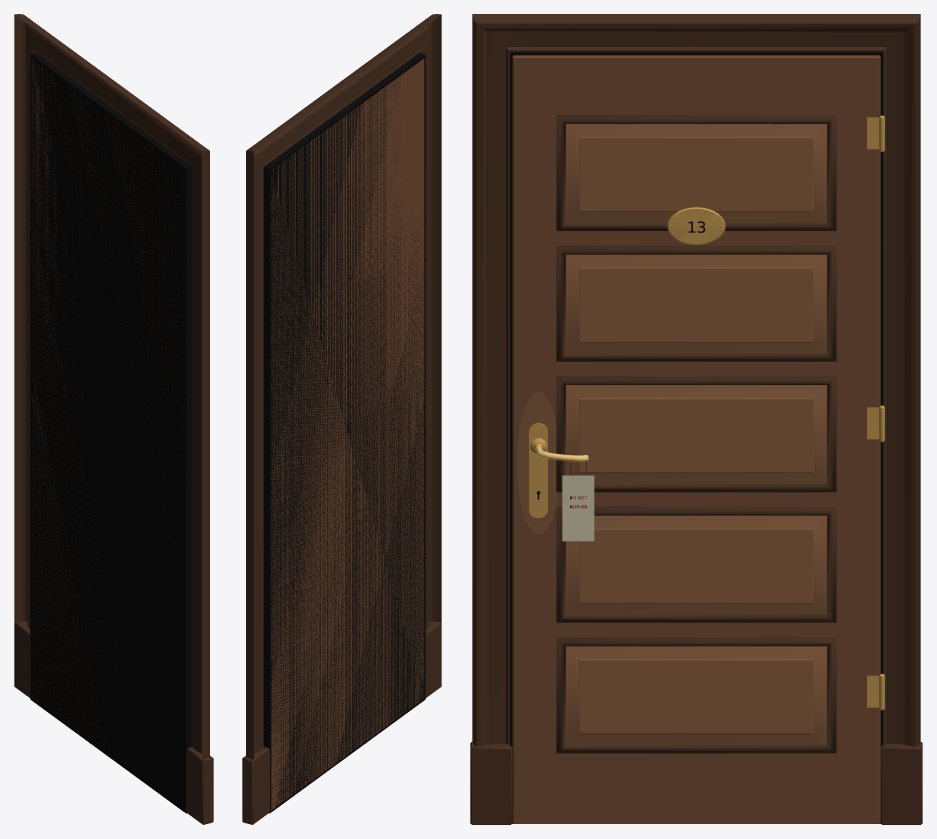
Rendered from hotel_door_d@2.glb.
3 renders of one model, left to right at view 1: azimuth 30°, elevation 25°; view 2: azimuth 150°, elevation 25°; view 3: azimuth 270°, elevation 25°, orthographic. The views are drawn at different scales.
Parts seen in each view (by area): view 1: fuge, bekleidung, blatt; view 2: fuge, blatt, bekleidung; view 3: fuellungen, blatt, bekleidung, kehlleisten, fuge, beschlag, abrieb, karte, nummernschild.
Boxes of the visible parts, bbox=[...] form: fuge: bbox=[30, 53, 192, 813]; bekleidung: bbox=[14, 14, 213, 824]; blatt: bbox=[31, 59, 184, 776]; fuge: bbox=[263, 53, 425, 813]; blatt: bbox=[271, 58, 424, 810]; bekleidung: bbox=[242, 14, 441, 824]; fuellungen: bbox=[566, 124, 826, 744]; blatt: bbox=[512, 55, 880, 823]; bekleidung: bbox=[470, 14, 922, 824]; kehlleisten: bbox=[556, 115, 836, 753]; fuge: bbox=[510, 51, 882, 823]; beschlag: bbox=[529, 115, 884, 710]; abrieb: bbox=[516, 392, 558, 533]; karte: bbox=[562, 475, 594, 541]; nummernschild: bbox=[667, 207, 725, 244].
Bounding box in the file's own units: 0.1169 × 2.22 × 1.13.
